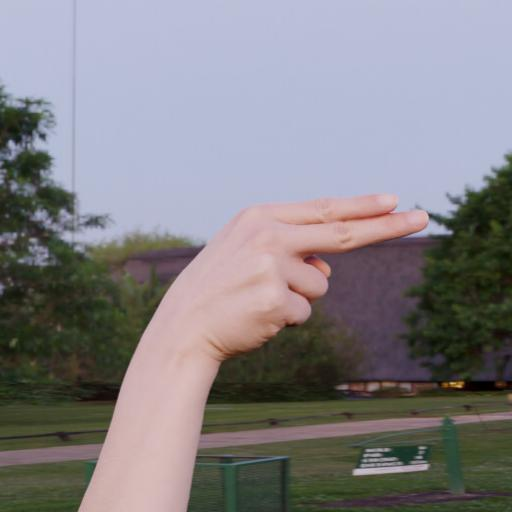H: (124, 179, 440, 430)
